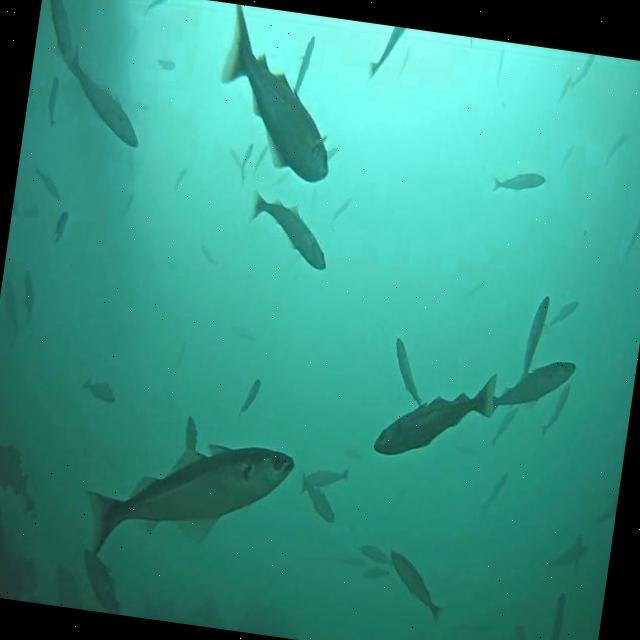fish: (88, 420, 295, 570), (213, 8, 349, 182), (374, 361, 500, 472), (245, 189, 334, 273), (61, 62, 148, 147), (492, 352, 576, 417), (382, 549, 448, 624), (76, 548, 126, 614), (39, 0, 86, 70), (387, 336, 431, 408), (520, 296, 550, 378), (367, 23, 406, 82), (298, 476, 340, 526), (492, 167, 548, 197), (542, 380, 572, 435), (303, 460, 349, 494), (292, 34, 316, 96), (482, 467, 511, 514), (0, 274, 24, 330), (543, 591, 570, 640), (548, 296, 580, 336), (550, 540, 588, 572), (491, 403, 518, 448), (31, 166, 64, 202), (17, 272, 38, 326), (604, 130, 631, 172), (623, 195, 640, 261), (44, 73, 64, 129), (82, 377, 120, 404), (570, 53, 595, 90), (240, 378, 260, 421), (359, 541, 394, 565), (180, 417, 202, 454), (570, 536, 584, 578), (240, 143, 254, 185), (362, 566, 390, 586), (252, 144, 268, 177), (595, 502, 616, 527), (556, 74, 572, 106), (332, 197, 352, 222), (198, 246, 220, 267), (228, 148, 246, 170), (497, 51, 507, 86), (175, 165, 188, 191), (399, 46, 410, 76), (144, 0, 169, 13), (560, 148, 572, 172), (157, 57, 177, 71), (325, 144, 339, 162)
